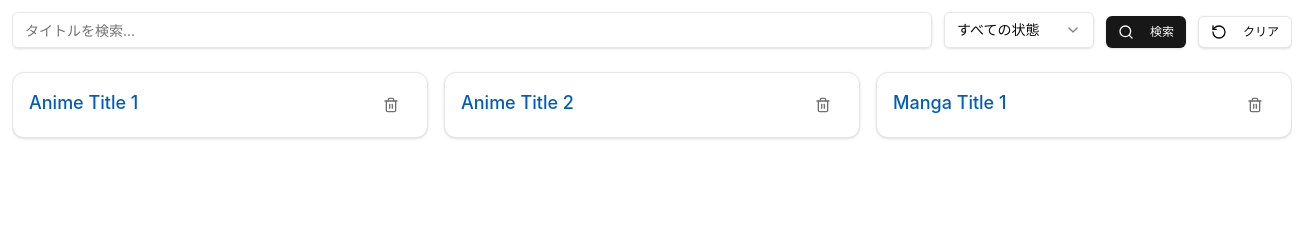
Test: Home Page › search functionality › should handle search API errors gracefully
In the field with test id "search-input": point(472, 30) [12,12,932,48], type "test"
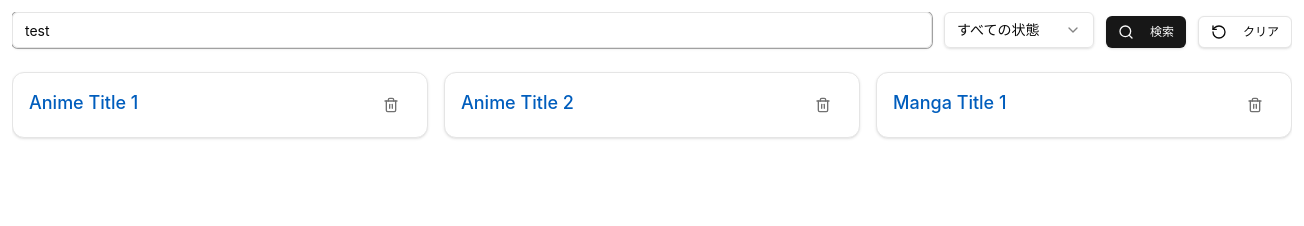
Click the button with test id "search-button": point(1146, 32) [1106,16,1186,48]
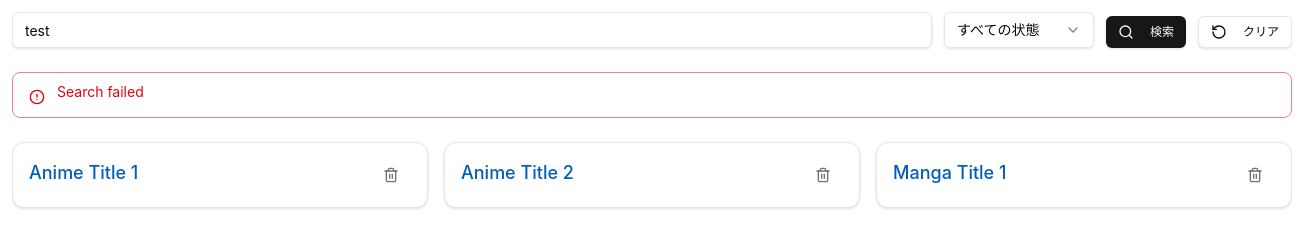
Now the text "Search failed" is shown, box [57,83,144,100]
